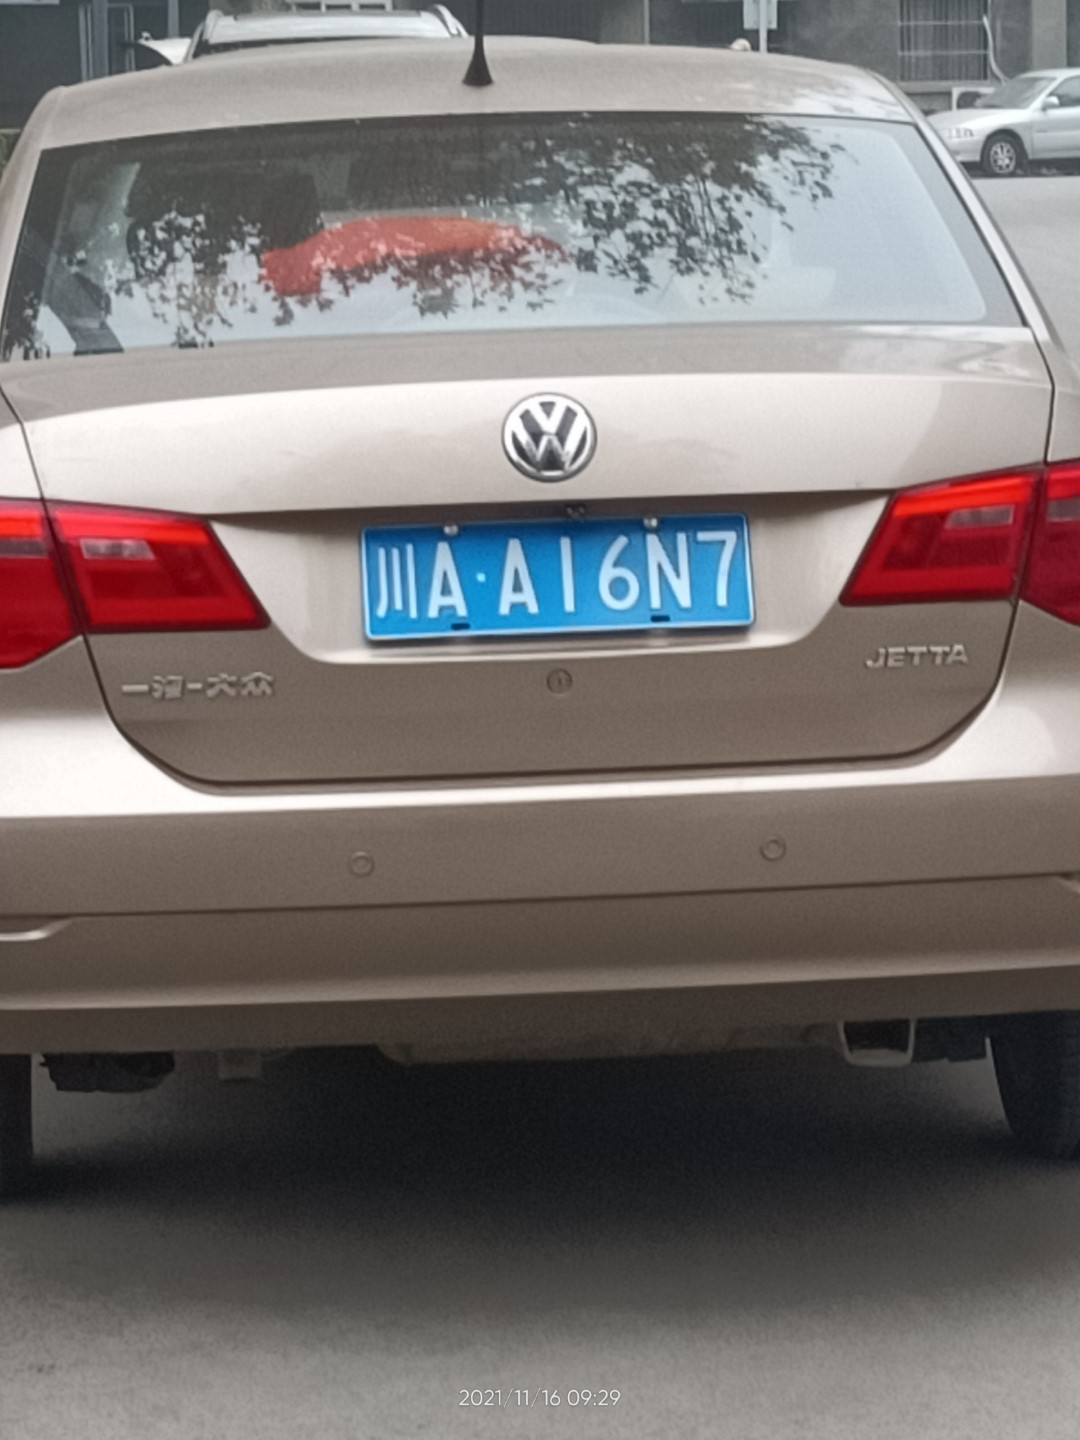plate: (363, 508, 746, 637)
